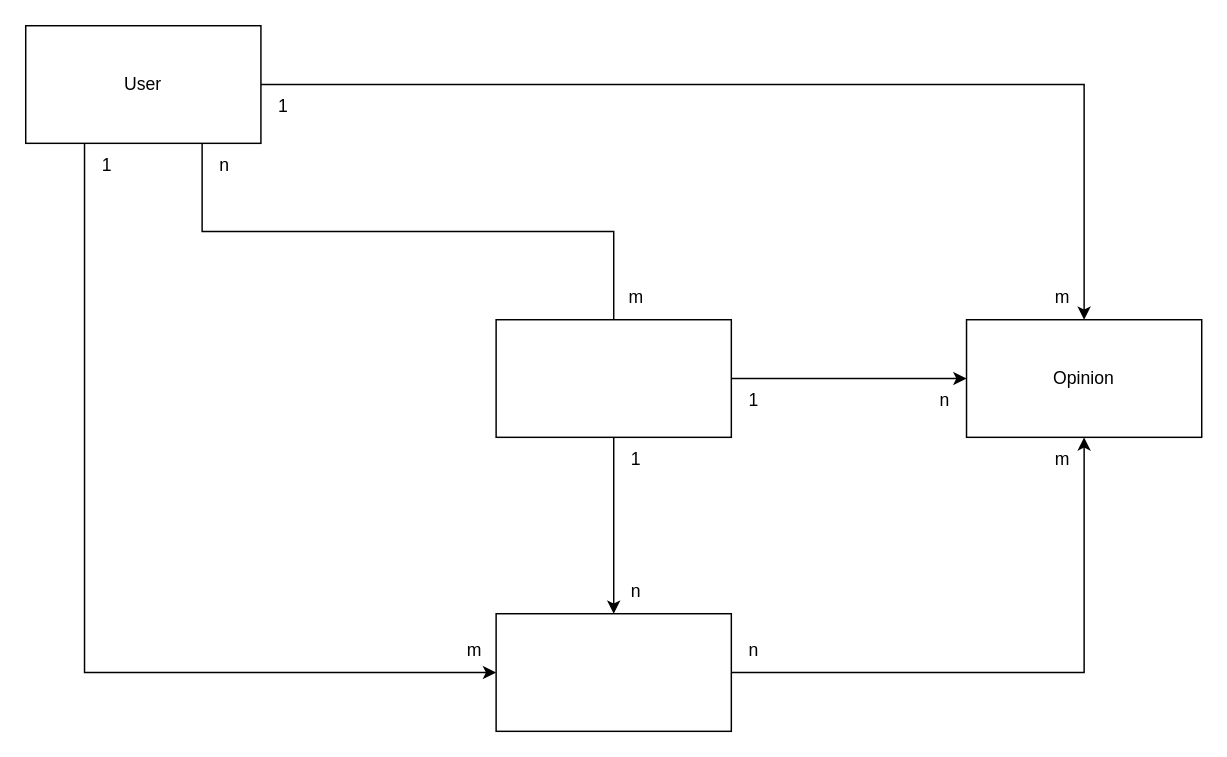
This 1227x757 diagram has some shape labels left out. The centre of each missing label's shape, as x and y in pixels:
Fact: the point at 613,671
Topik: the point at 613,377
